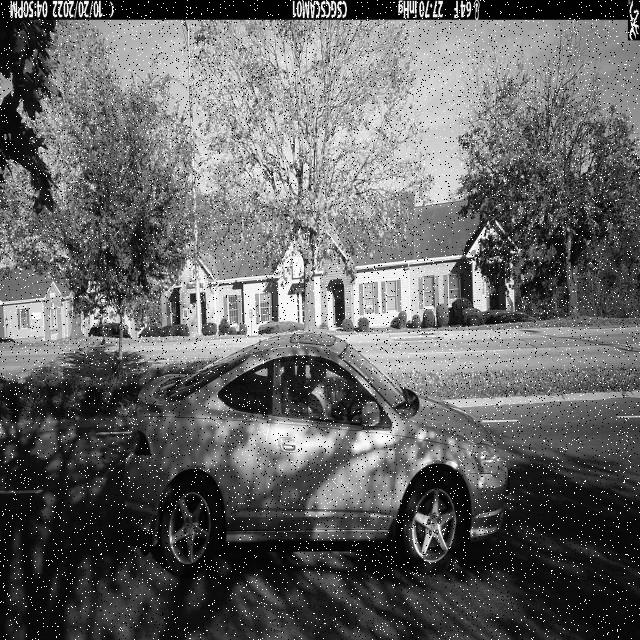Sedan: (123, 334, 509, 580)
